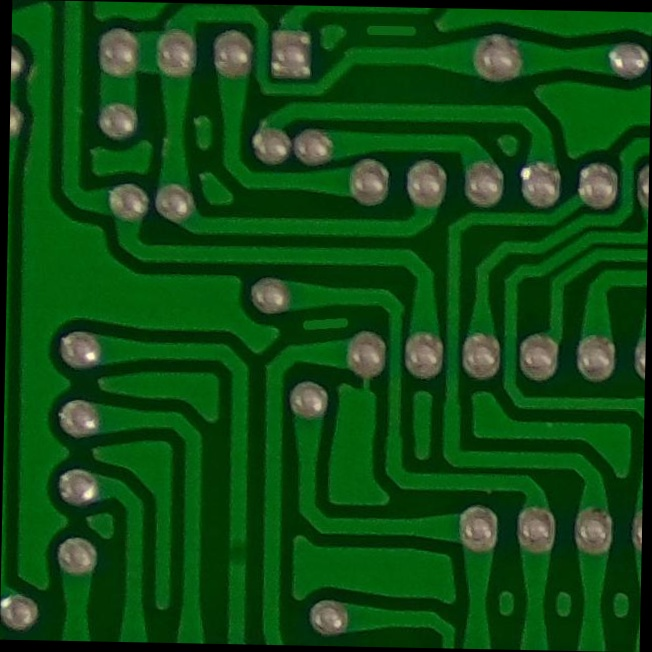spurious_copper: (297, 308, 356, 345)
